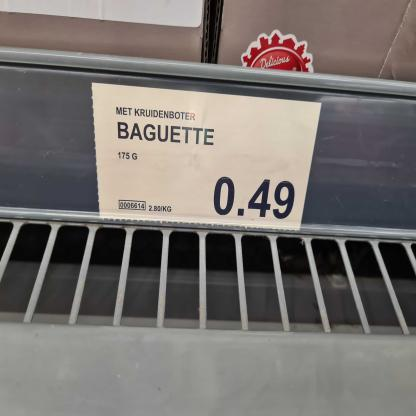prtg: (92, 83, 323, 232)
